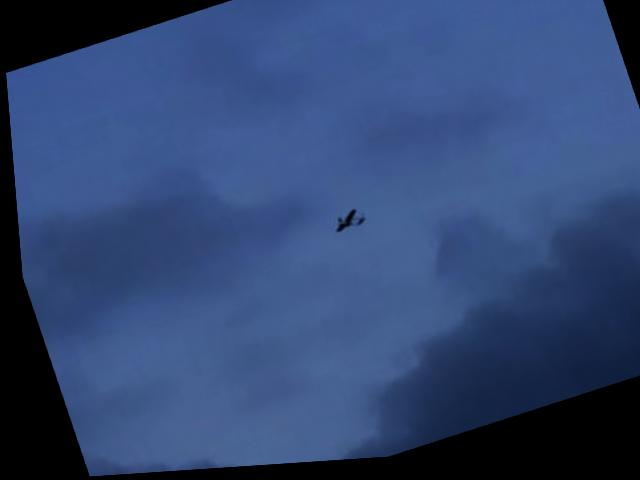uav: (323, 206, 363, 241)
